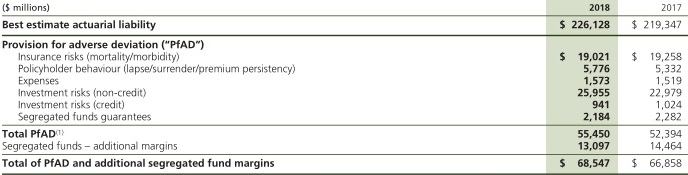column: (1, 1, 297, 175), (558, 2, 611, 175), (632, 1, 682, 175)
row: (1, 37, 688, 51), (1, 19, 688, 32), (1, 53, 688, 64), (1, 157, 688, 168), (1, 3, 688, 13), (1, 64, 688, 74), (1, 76, 688, 86), (1, 87, 688, 97), (1, 100, 688, 110), (1, 129, 688, 139), (1, 142, 688, 151), (1, 113, 687, 122)
